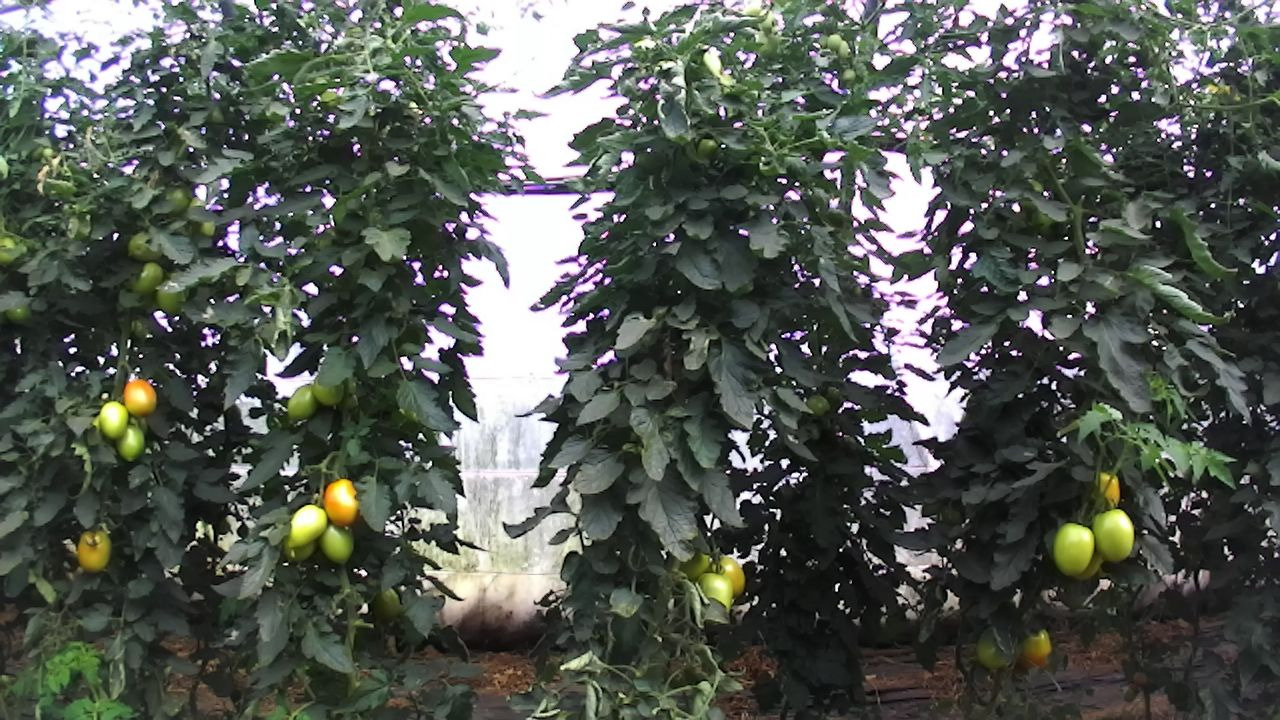tomato: (1087, 506, 1137, 566), (1048, 519, 1096, 579), (320, 476, 362, 531), (283, 501, 329, 551), (74, 523, 114, 577), (318, 518, 356, 566), (975, 625, 1010, 673), (696, 569, 736, 611), (1016, 625, 1054, 669), (284, 380, 321, 424), (121, 377, 159, 418), (716, 555, 748, 600), (126, 259, 165, 295), (97, 401, 130, 442), (113, 421, 145, 463), (124, 230, 163, 264), (311, 377, 346, 408), (156, 288, 183, 317), (4, 303, 35, 326)
